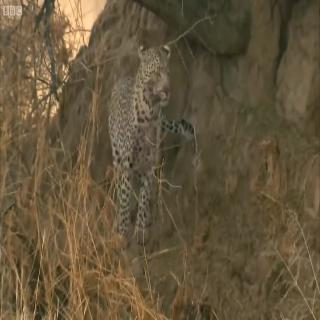Leopard: (89, 9, 199, 247)
